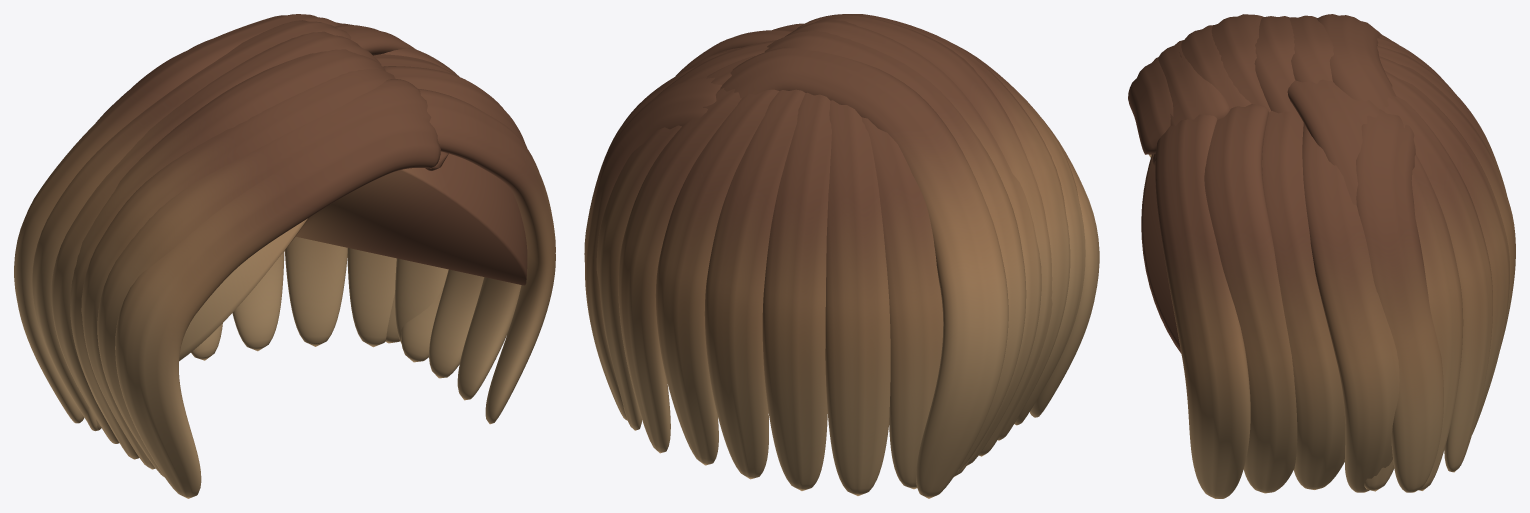
File: Ombre-0d5b40b8b338253-hair.glb
3 renders of one model, left to right at view 1: azimuth 30°, elevation 25°; view 2: azimuth 150°, elevation 25°; view 3: azimuth 270°, elevation 25°, orthographic. The views are drawn at different scales.
Parts seen in each view (by area): view 1: Hair / Bob / side sweep 0, Recessed roots, Hair / Bob / side sweep 1, Hair / Bob / side sweep 2, Hair / Bob / side sweep 7, Hair / Bob / side sweep 3, Hair / Bob / side sweep 6, Hair / Bob / side sweep 5, Hair / Bob / side sweep 4, Hair / Bob / side sweep 8, Hair / Bob / side sweep 15, Hair / Bob / side sweep 9 (+4 smaller); view 2: Hair / Bob / side sweep 6, Hair / Bob / side sweep 19, Hair / Bob / side sweep 18, Hair / Bob / side sweep 17, Hair / Bob / side sweep 16, Hair / Bob / side sweep 20, Hair / Bob / side sweep 15, Hair / Bob / side sweep 5, Hair / Bob / side sweep 3, Hair / Bob / side sweep 4, Hair / Bob / side sweep 11, Hair / Bob / side sweep 2 (+6 smaller); view 3: Hair / Bob / side sweep 7, Hair / Bob / side sweep 8, Hair / Bob / side sweep 11, Hair / Bob / side sweep 10, Hair / Bob / side sweep 9, Hair / Bob / side sweep 15, Hair / Bob / side sweep 14, Hair / Bob / side sweep 16, Hair / Bob / side sweep 13, Hair / Bob / side sweep 6, Hair / Bob / side sweep 17, Hair / Bob / side sweep 4 (+8 smaller).
Part boxes in pixels (x1,y1,x2,y2): Hair / Bob / side sweep 0: [115, 112, 448, 498]; Recessed roots: [179, 153, 527, 360]; Hair / Bob / side sweep 1: [97, 79, 431, 476]; Hair / Bob / side sweep 2: [81, 69, 395, 469]; Hair / Bob / side sweep 7: [418, 89, 555, 424]; Hair / Bob / side sweep 3: [70, 49, 385, 459]; Hair / Bob / side sweep 6: [14, 14, 339, 423]; Hair / Bob / side sweep 5: [32, 20, 351, 430]; Hair / Bob / side sweep 4: [51, 31, 381, 443]; Hair / Bob / side sweep 8: [383, 66, 526, 400]; Hair / Bob / side sweep 15: [284, 236, 347, 346]; Hair / Bob / side sweep 9: [373, 54, 483, 378]; Hair / Bob / side sweep 6: [720, 47, 1008, 498]; Hair / Bob / side sweep 19: [825, 100, 890, 495]; Hair / Bob / side sweep 18: [762, 92, 831, 490]; Hair / Bob / side sweep 17: [704, 89, 805, 479]; Hair / Bob / side sweep 16: [655, 89, 778, 465]; Hair / Bob / side sweep 20: [861, 117, 943, 489]; Hair / Bob / side sweep 15: [618, 88, 741, 453]; Hair / Bob / side sweep 5: [764, 30, 1026, 476]; Hair / Bob / side sweep 3: [816, 14, 1052, 456]; Hair / Bob / side sweep 4: [785, 19, 1041, 465]; Hair / Bob / side sweep 11: [585, 77, 722, 420]; Hair / Bob / side sweep 2: [848, 14, 1070, 440]; Hair / Bob / side sweep 7: [1155, 114, 1250, 498]; Hair / Bob / side sweep 8: [1204, 104, 1297, 493]; Hair / Bob / side sweep 11: [1356, 109, 1443, 492]; Hair / Bob / side sweep 10: [1302, 123, 1399, 492]; Hair / Bob / side sweep 9: [1262, 111, 1345, 489]; Hair / Bob / side sweep 15: [1384, 95, 1492, 472]; Hair / Bob / side sweep 14: [1336, 85, 1463, 490]; Hair / Bob / side sweep 16: [1384, 70, 1509, 434]; Hair / Bob / side sweep 13: [1287, 79, 1394, 491]; Hair / Bob / side sweep 6: [1317, 14, 1396, 110]; Hair / Bob / side sweep 17: [1379, 56, 1515, 347]; Hair / Bob / side sweep 4: [1254, 16, 1297, 113].
Size of the model in its own units: 1.02 by 0.8675 by 0.7806.
22 materials, 22 textured.
